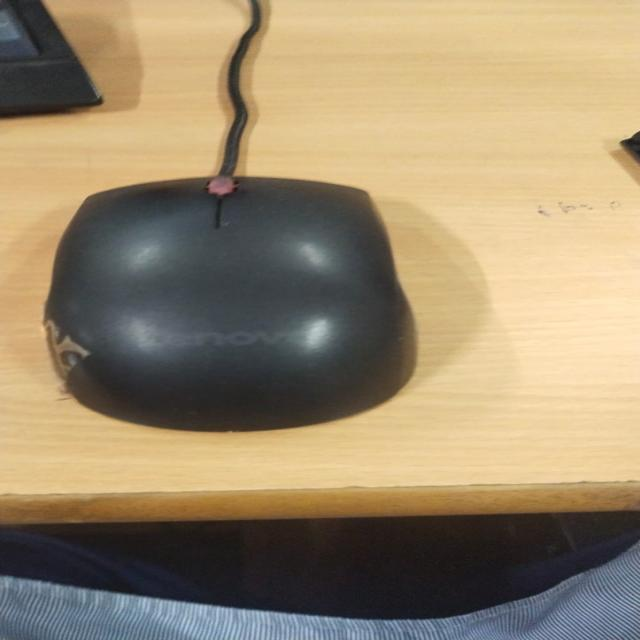Mouse: (99, 80, 361, 518)
